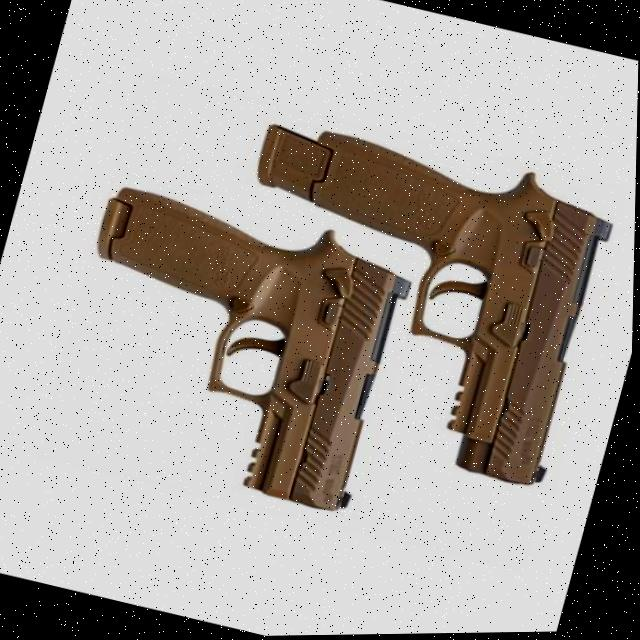pistol: (191, 112, 624, 496), (43, 180, 421, 521)
